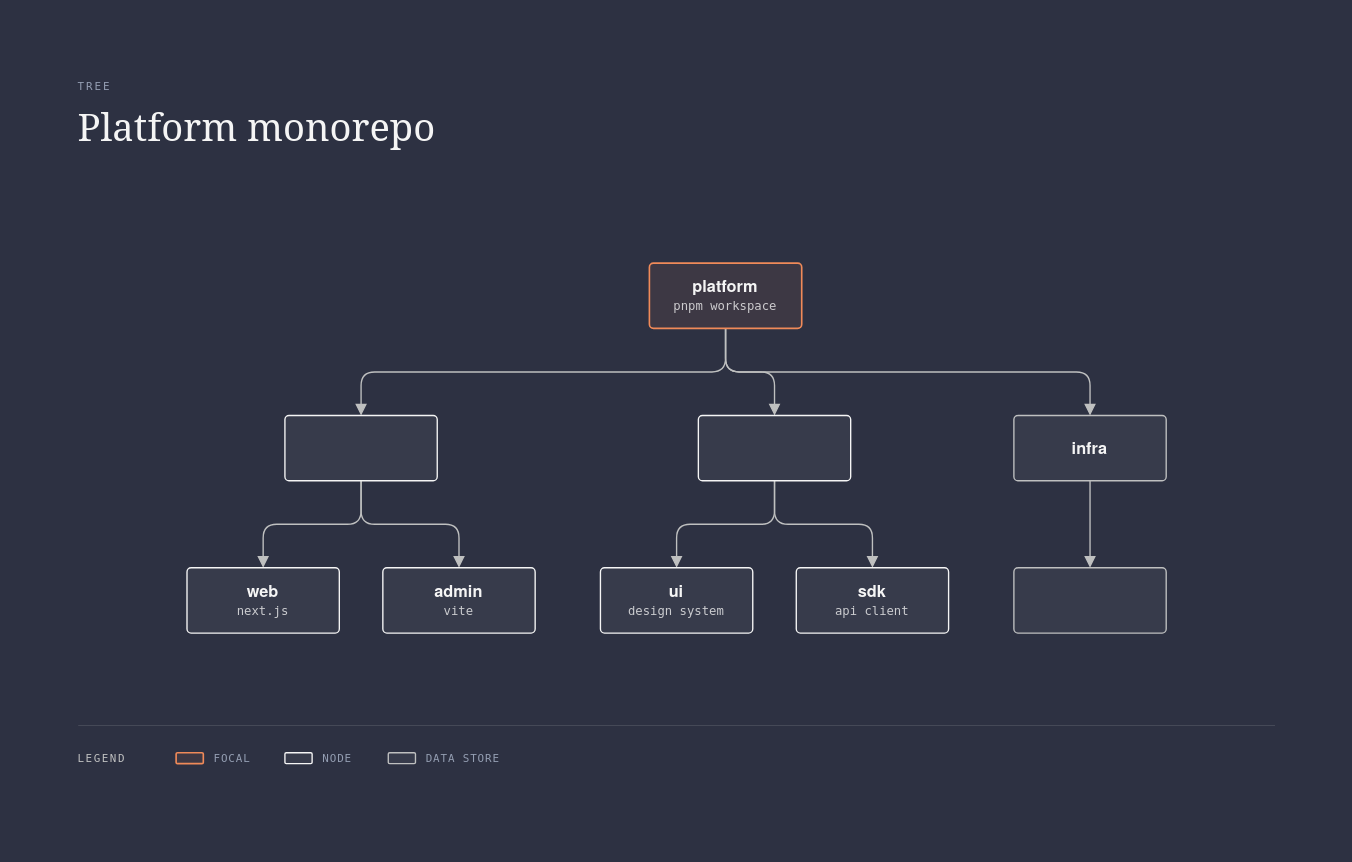
The diagram is 1352 pixels wide and 862 high, and some of its shapes have lost their labels. The box of each missing label's shape, as (x1, y1, x2, y2) in pixels:
apps: (284, 414, 437, 481)
packages: (697, 414, 851, 481)
terraform: (1013, 566, 1166, 633)
